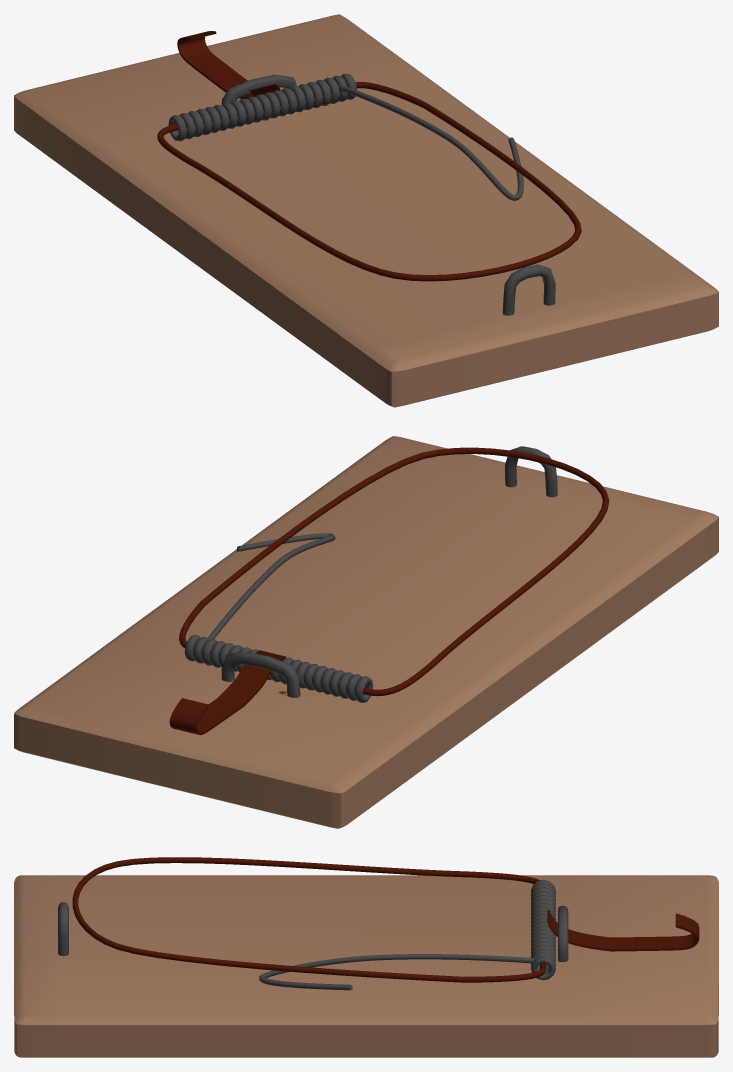
File: MouseTrap.FBX
The picture shows the model from 3 angles, top to bottom: view 1: azimuth 30°, elevation 25°; view 2: azimuth 150°, elevation 25°; view 3: azimuth 270°, elevation 25°; orthographic projection. The views are drawn at different scales.
Visible parts, largest first — view 1: MouseTrapWoodSupport, MouseTrapMainCable; view 2: MouseTrapWoodSupport, MouseTrapMainCable; view 3: MouseTrapWoodSupport, MouseTrapMainCable.
Boxes of the visible parts, x1,y1,x2,y2 form: MouseTrapWoodSupport: (14,14,718,407); MouseTrapMainCable: (157,82,581,281); MouseTrapWoodSupport: (14,436,718,828); MouseTrapMainCable: (179,447,609,696); MouseTrapWoodSupport: (14,875,718,1057); MouseTrapMainCable: (72,857,545,982).
Bounding box in the file's own units: 15 × 3.81 × 30.
